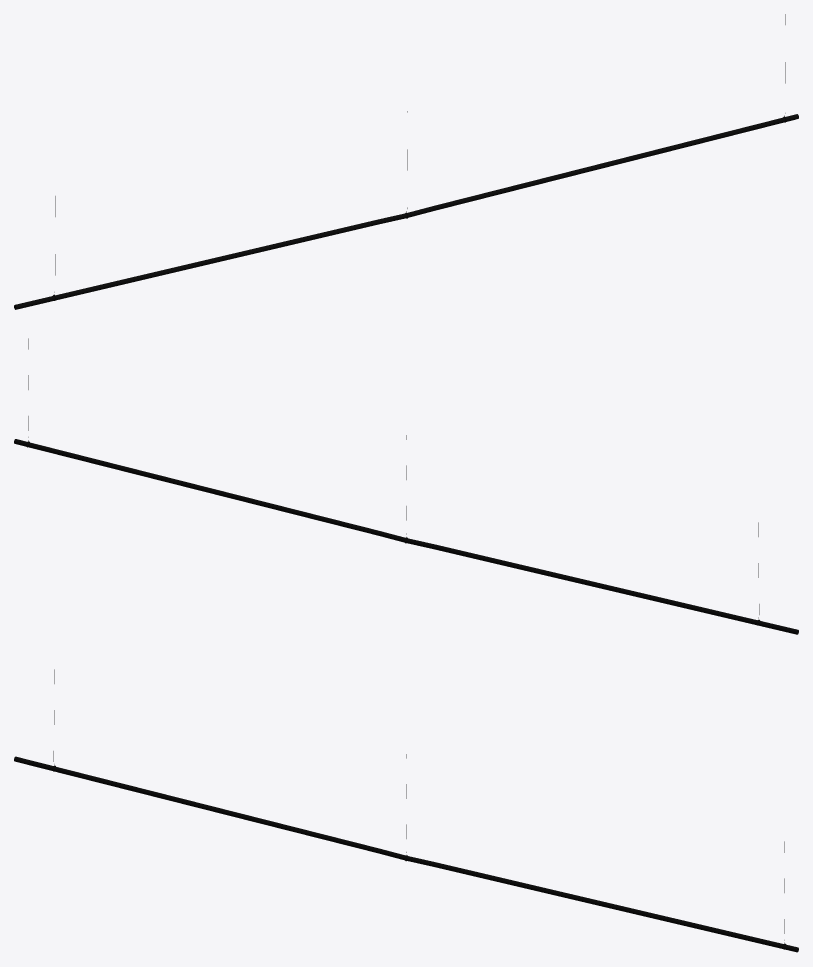
File: BlackMetal008.FBX
The picture shows the model from 3 angles, top to bottom: view 1: azimuth 30°, elevation 25°; view 2: azimuth 150°, elevation 25°; view 3: azimuth 330°, elevation 25°; orthographic projection.
Visible parts, largest first — view 1: BlackMetal008; view 2: BlackMetal008; view 3: BlackMetal008.
Part boxes in pixels (<box>): BlackMetal008: <box>14,14,798,309</box>; BlackMetal008: <box>14,338,798,634</box>; BlackMetal008: <box>14,669,798,952</box>.
Bounding box in the file's own units: 18.31 × 2.51 × 0.1219.
Materials: 1 (1 with a texture image).
